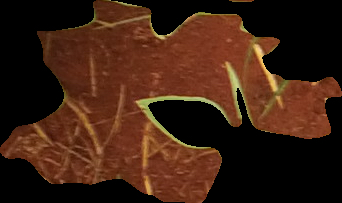soil: (1, 1, 341, 202)
